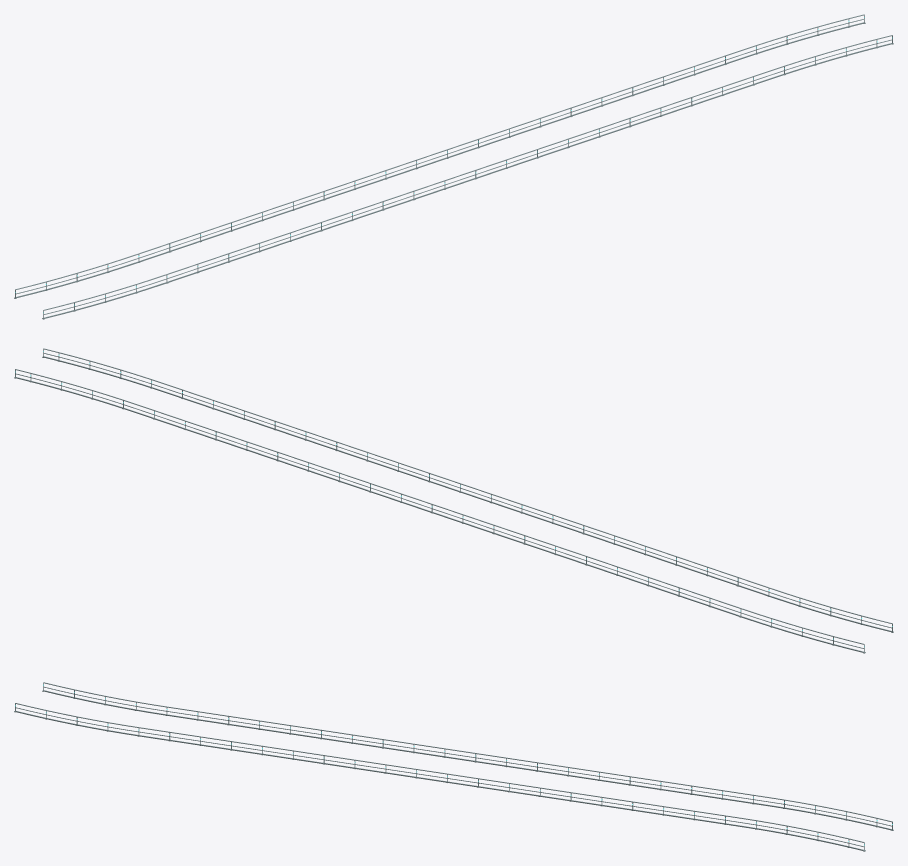
File: RoadPlan_RampParapet_2L_Rise8p4_L110.glb
The picture shows the model from 3 angles, top to bottom: view 1: azimuth 30°, elevation 25°; view 2: azimuth 150°, elevation 25°; view 3: azimuth 330°, elevation 25°; orthographic projection.
Visible parts, largest first — view 1: RoadPlan_RampParapet_2L_Rise8p4_L110_ConstantGrade_ToeRail_-, RoadPlan_RampParapet_2L_Rise8p4_L110_ConstantGrade_ToeRail_1, RoadPlan_RampParapet_2L_Rise8p4_L110_ConstantGrade_TopRail_-, RoadPlan_RampParapet_2L_Rise8p4_L110_ConstantGrade_TopRail_1, RoadPlan_RampParapet_2L_Rise8p4_L110_ConstantGrade_MidRail_-, RoadPlan_RampParapet_2L_Rise8p4_L110_ConstantGrade_MidRail_1; view 2: RoadPlan_RampParapet_2L_Rise8p4_L110_ConstantGrade_ToeRail_1, RoadPlan_RampParapet_2L_Rise8p4_L110_ConstantGrade_ToeRail_-, RoadPlan_RampParapet_2L_Rise8p4_L110_ConstantGrade_TopRail_1, RoadPlan_RampParapet_2L_Rise8p4_L110_ConstantGrade_TopRail_-, RoadPlan_RampParapet_2L_Rise8p4_L110_ConstantGrade_MidRail_1, RoadPlan_RampParapet_2L_Rise8p4_L110_ConstantGrade_MidRail_-; view 3: RoadPlan_RampParapet_2L_Rise8p4_L110_ConstantGrade_ToeRail_-, RoadPlan_RampParapet_2L_Rise8p4_L110_ConstantGrade_ToeRail_1, RoadPlan_RampParapet_2L_Rise8p4_L110_ConstantGrade_TopRail_-, RoadPlan_RampParapet_2L_Rise8p4_L110_ConstantGrade_TopRail_1, RoadPlan_RampParapet_2L_Rise8p4_L110_ConstantGrade_MidRail_1, RoadPlan_RampParapet_2L_Rise8p4_L110_ConstantGrade_MidRail_-.
Boxes of the visible parts, <box> form: RoadPlan_RampParapet_2L_Rise8p4_L110_ConstantGrade_ToeRail_-: <box>167,79,769,282</box>; RoadPlan_RampParapet_2L_Rise8p4_L110_ConstantGrade_ToeRail_1: <box>139,58,740,261</box>; RoadPlan_RampParapet_2L_Rise8p4_L110_ConstantGrade_TopRail_-: <box>167,71,769,274</box>; RoadPlan_RampParapet_2L_Rise8p4_L110_ConstantGrade_TopRail_1: <box>139,50,740,253</box>; RoadPlan_RampParapet_2L_Rise8p4_L110_ConstantGrade_MidRail_-: <box>167,75,769,278</box>; RoadPlan_RampParapet_2L_Rise8p4_L110_ConstantGrade_MidRail_1: <box>139,54,740,258</box>; RoadPlan_RampParapet_2L_Rise8p4_L110_ConstantGrade_ToeRail_1: <box>138,413,740,616</box>; RoadPlan_RampParapet_2L_Rise8p4_L110_ConstantGrade_ToeRail_-: <box>167,392,768,595</box>; RoadPlan_RampParapet_2L_Rise8p4_L110_ConstantGrade_TopRail_1: <box>138,405,740,608</box>; RoadPlan_RampParapet_2L_Rise8p4_L110_ConstantGrade_TopRail_-: <box>167,384,768,587</box>; RoadPlan_RampParapet_2L_Rise8p4_L110_ConstantGrade_MidRail_1: <box>138,409,740,612</box>; RoadPlan_RampParapet_2L_Rise8p4_L110_ConstantGrade_MidRail_-: <box>167,388,768,592</box>; RoadPlan_RampParapet_2L_Rise8p4_L110_ConstantGrade_ToeRail_-: <box>138,735,740,826</box>; RoadPlan_RampParapet_2L_Rise8p4_L110_ConstantGrade_ToeRail_1: <box>167,714,768,806</box>; RoadPlan_RampParapet_2L_Rise8p4_L110_ConstantGrade_TopRail_-: <box>138,727,740,818</box>; RoadPlan_RampParapet_2L_Rise8p4_L110_ConstantGrade_TopRail_1: <box>167,706,768,797</box>; RoadPlan_RampParapet_2L_Rise8p4_L110_ConstantGrade_MidRail_1: <box>167,711,768,802</box>; RoadPlan_RampParapet_2L_Rise8p4_L110_ConstantGrade_MidRail_-: <box>139,731,740,822</box>.
Size of the model in its own units: 110 by 9.5 by 6.56.
